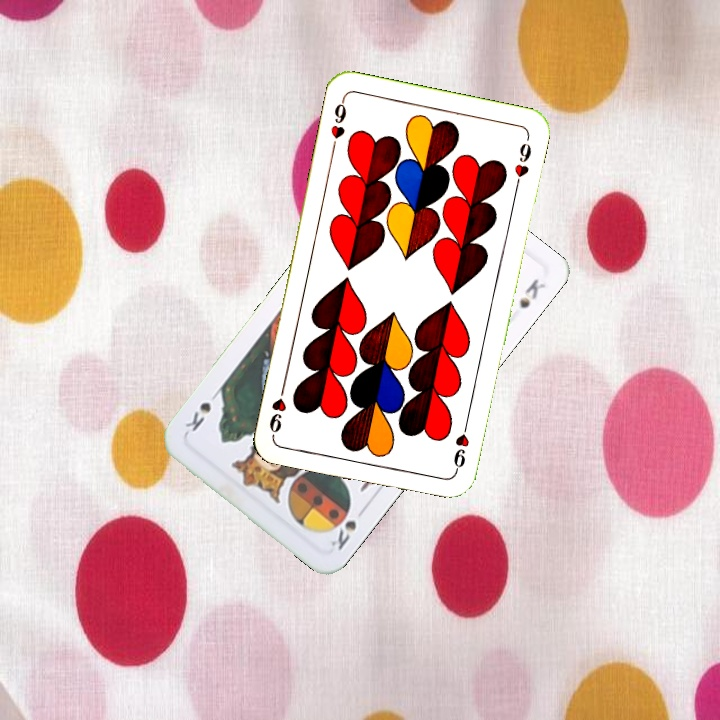H9: (326, 94, 349, 153), (449, 416, 472, 475)
SK: (326, 502, 359, 553)
